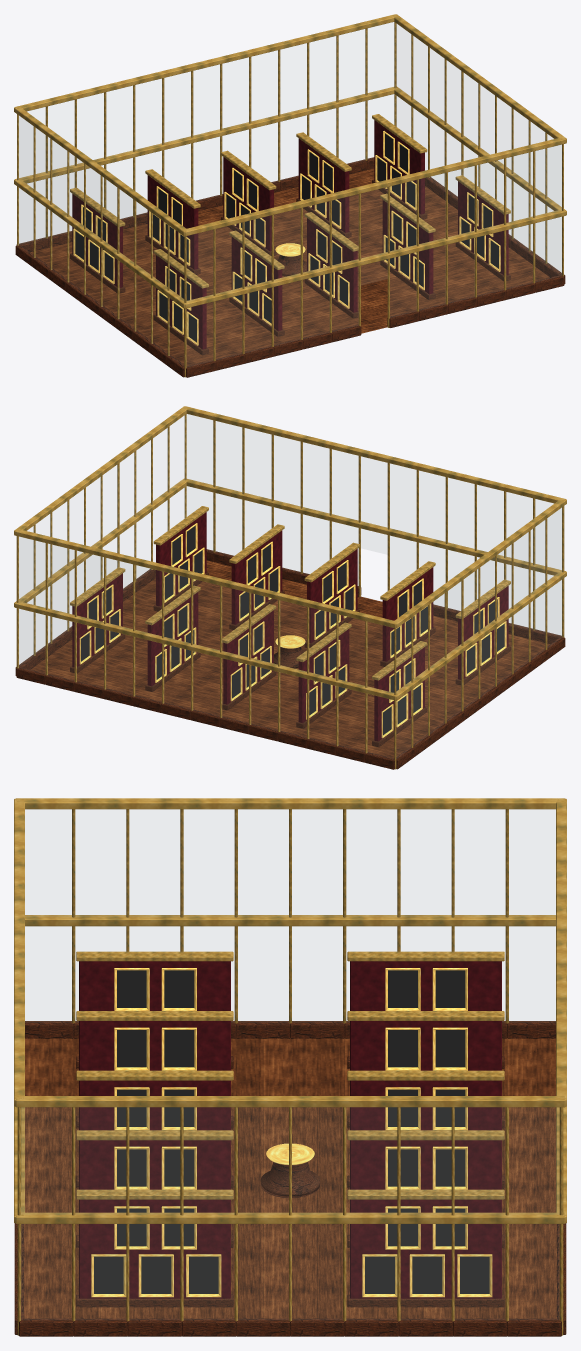
Rendered from sp_f2_vault.glb.
3 views of the same model, one above another, from view 1: azimuth 30°, elevation 25°; view 2: azimuth 150°, elevation 25°; view 3: azimuth 270°, elevation 25° (orthographic). The views are drawn at different scales.
Visible parts, largest first — view 1: spire; view 2: spire; view 3: spire.
Boxes of the visible parts, bbox=[...] form: spire: bbox=[14, 14, 566, 377]; spire: bbox=[14, 406, 566, 769]; spire: bbox=[14, 798, 566, 1336].
Size of the model in its own units: 26.4 by 9.65 by 20.4.
8 materials, 6 textured.
